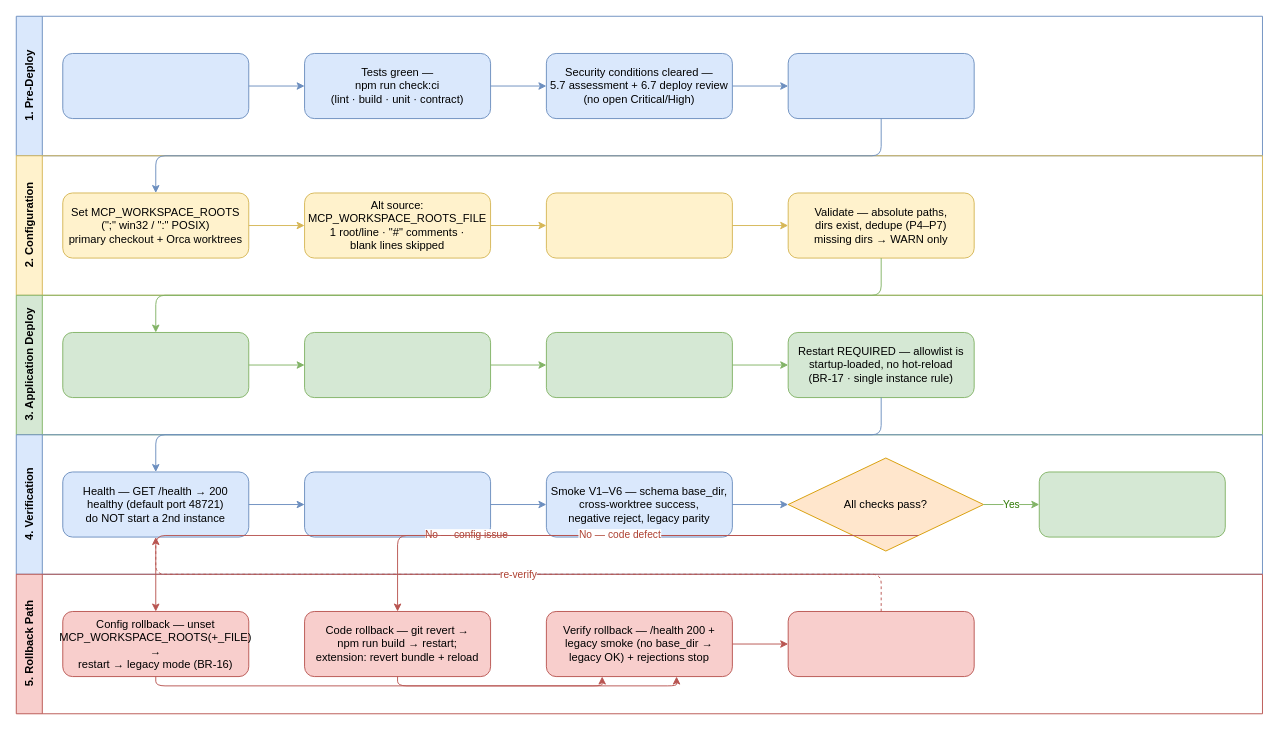
This 1279x730 diagram has some shape labels left out. The centre of each missing label's shape, as x and y in pixels:
Backup point — tag previous build + record current env / extension config: the point at 880,86
Build — npm ci && npm run build (tsc → dist/): the point at 155,365
Extension-host mode — update bundle → Ctrl+Shift+P → "Developer: Reload Window": the point at 638,365
GO — deployment complete: the point at 1131,504
Merge SA4E-394 → release branch (resolver + allowlist + 8 tool handlers): the point at 155,86
Mirror allowlist in extension settings — kiro-code-intel.workspaceRoots: the point at 638,225
Restart backend — npm run dev (tsx watch) or npm start (node dist/index.js): the point at 397,365
Rollback complete — re-enter verification (Lane 4): the point at 880,644
Startup log — INFO "MCP workspace allowlist loaded" lists roots + source (BR-19): the point at 397,504
